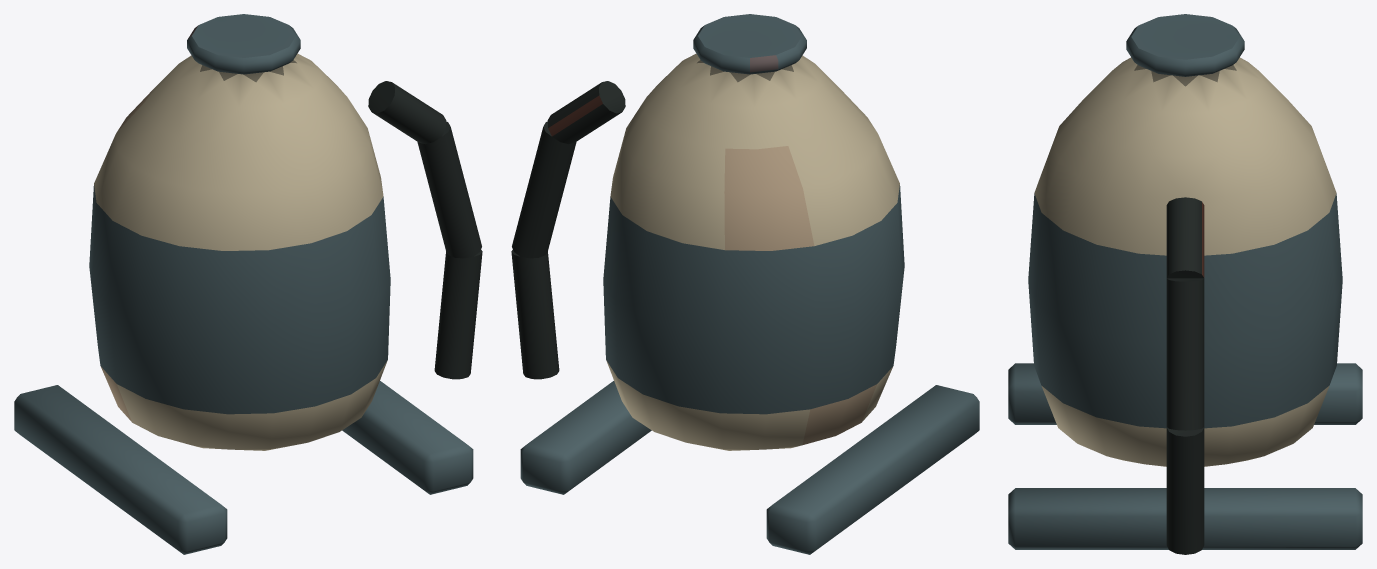
File: prop_pot.glb
The picture shows the model from 3 angles, left to right: view 1: azimuth 30°, elevation 25°; view 2: azimuth 150°, elevation 25°; view 3: azimuth 270°, elevation 25°; orthographic projection. The views are drawn at different scales.
Visible parts, largest first — view 1: Surface; view 2: Surface; view 3: Surface.
Part boxes in pixels (box(x1,y1,x2,y2)): Surface: box(14, 14, 482, 554); Surface: box(511, 14, 979, 554); Surface: box(1008, 14, 1362, 554).
Bounding box in the file's own units: 1.95 × 2.06 × 1.5.
